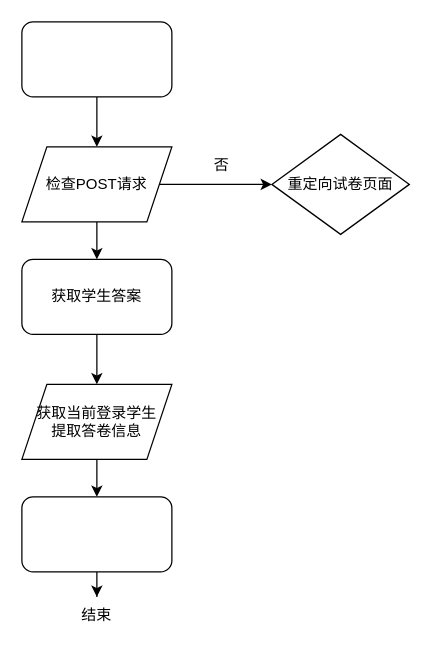
Image size: 431x656. Some labels were removed from this diagram. The shapes that lost their labels are listed below. From the top down, each one's centre as x and y in pixels, then its label:
the point at 96,59: 开始
the point at 96,534: 更新至答卷表
